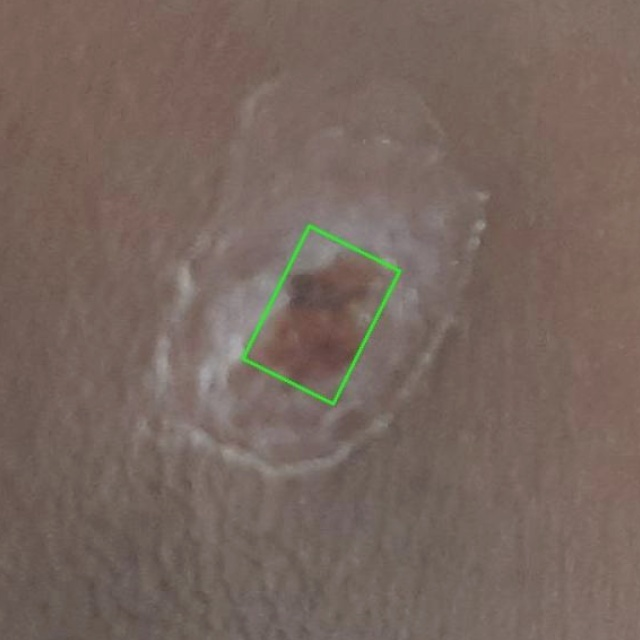Eczema: (243, 226, 400, 404)
